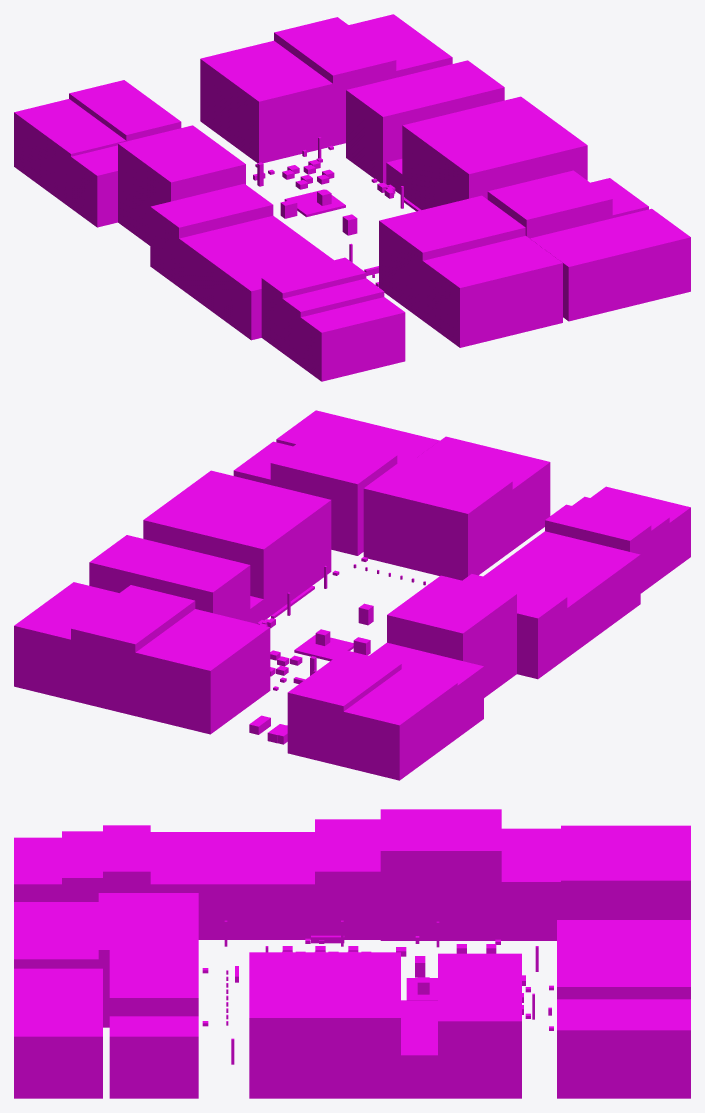
The model's file is fischerbrunnen_colliders.glb.
The picture shows the model from 3 angles, top to bottom: view 1: azimuth 30°, elevation 25°; view 2: azimuth 150°, elevation 25°; view 3: azimuth 270°, elevation 25°; orthographic projection. The views are drawn at different scales.
Parts seen in each view (by area): view 1: COL_B_E2_Rathaus, COL_B_N1_Schuhhof, COL_B_S2, COL_B_S4, COL_B_W3_Ernstings, COL_B_E1_WeisserStaffelgiebel, COL_B_W1_VeroModa, COL_B_S0_Keimblatt, COL_B_W6_WeisserGiebel, COL_B_NW1, COL_B_N2_Stadtbaeckerei, COL_B_W2_Fellini (+8 smaller); view 2: COL_B_E2_Rathaus, COL_B_S0_Keimblatt, COL_B_N1_Schuhhof, COL_B_W1_VeroModa, COL_B_W3_Ernstings, COL_B_NW1, COL_B_N2_Stadtbaeckerei, COL_B_E1_WeisserStaffelgiebel, COL_B_S1_GelbesHaus, COL_B_NW2, COL_B_N3, COL_B_S2 (+8 smaller); view 3: COL_B_E2_Rathaus, COL_B_W1_VeroModa, COL_B_W3_Ernstings, COL_B_N3, COL_B_E1_WeisserStaffelgiebel, COL_B_S4, COL_B_NW2, COL_B_W2_Fellini, COL_B_S3, COL_B_W0_Modern, COL_B_N2_Stadtbaeckerei, COL_B_S0_Keimblatt (+9 smaller).
Part boxes in pixels (bbox=[...]): COL_B_E2_Rathaus: bbox=[402, 96, 587, 209]; COL_B_N1_Schuhhof: bbox=[200, 40, 332, 163]; COL_B_S2: bbox=[422, 236, 562, 347]; COL_B_S4: bbox=[530, 208, 690, 321]; COL_B_W3_Ernstings: bbox=[179, 215, 333, 340]; COL_B_E1_WeisserStaffelgiebel: bbox=[346, 60, 504, 183]; COL_B_W1_VeroModa: bbox=[118, 125, 245, 245]; COL_B_S0_Keimblatt: bbox=[379, 195, 525, 320]; COL_B_W6_WeisserGiebel: bbox=[300, 297, 405, 381]; COL_B_NW1: bbox=[14, 99, 126, 207]; COL_B_N2_Stadtbaeckerei: bbox=[274, 17, 396, 146]; COL_B_W2_Fellini: bbox=[150, 183, 273, 286]; COL_B_E2_Rathaus: bbox=[143, 470, 331, 620]; COL_B_S0_Keimblatt: bbox=[363, 456, 512, 580]; COL_B_N1_Schuhhof: bbox=[135, 609, 270, 734]; COL_B_W1_VeroModa: bbox=[387, 575, 516, 697]; COL_B_W3_Ernstings: bbox=[483, 531, 640, 657]; COL_B_NW1: bbox=[343, 669, 457, 780]; COL_B_N2_Stadtbaeckerei: bbox=[71, 585, 195, 715]; COL_B_E1_WeisserStaffelgiebel: bbox=[89, 535, 250, 621]; COL_B_S1_GelbesHaus: bbox=[270, 434, 397, 555]; COL_B_NW2: bbox=[287, 650, 401, 766]; COL_B_N3: bbox=[14, 582, 118, 700]; COL_B_S2: bbox=[417, 436, 550, 549]; COL_B_E2_Rathaus: bbox=[249, 952, 400, 1098]; COL_B_W1_VeroModa: bbox=[380, 809, 501, 940]; COL_B_W3_Ernstings: bbox=[150, 832, 314, 939]; COL_B_N3: bbox=[557, 999, 690, 1098]; COL_B_E1_WeisserStaffelgiebel: bbox=[438, 953, 521, 1098]; COL_B_S4: bbox=[14, 968, 102, 1098]; COL_B_NW2: bbox=[561, 850, 690, 919]; COL_B_W2_Fellini: bbox=[315, 819, 380, 939]; COL_B_S3: bbox=[109, 1016, 198, 1098]; COL_B_W0_Modern: bbox=[501, 828, 560, 940]; COL_B_N2_Stadtbaeckerei: bbox=[557, 951, 690, 999]; COL_B_S0_Keimblatt: bbox=[98, 893, 198, 1027].
Size of the model in its own units: 73 by 14.5 by 99.
